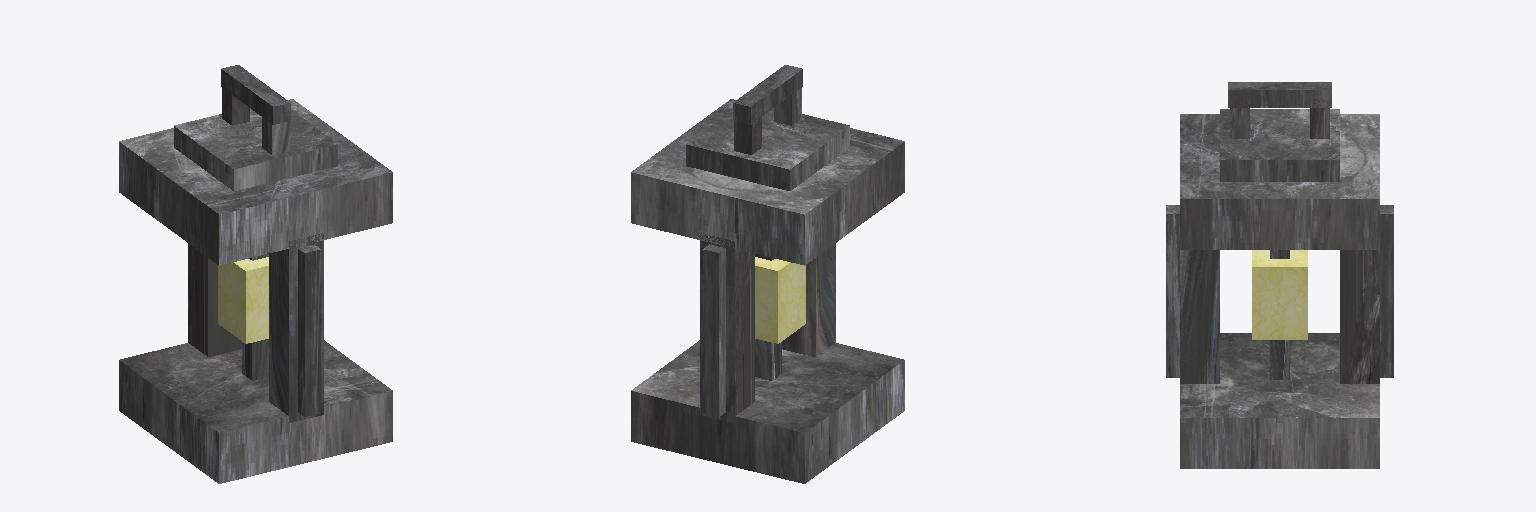
3 views of the same model, side by side, from view 1: azimuth 30°, elevation 25°; view 2: azimuth 150°, elevation 25°; view 3: azimuth 270°, elevation 25° (orthographic).
Bounding box in the file's own units: 1.25 × 2.34 × 1.42.
2 materials, 1 textured.